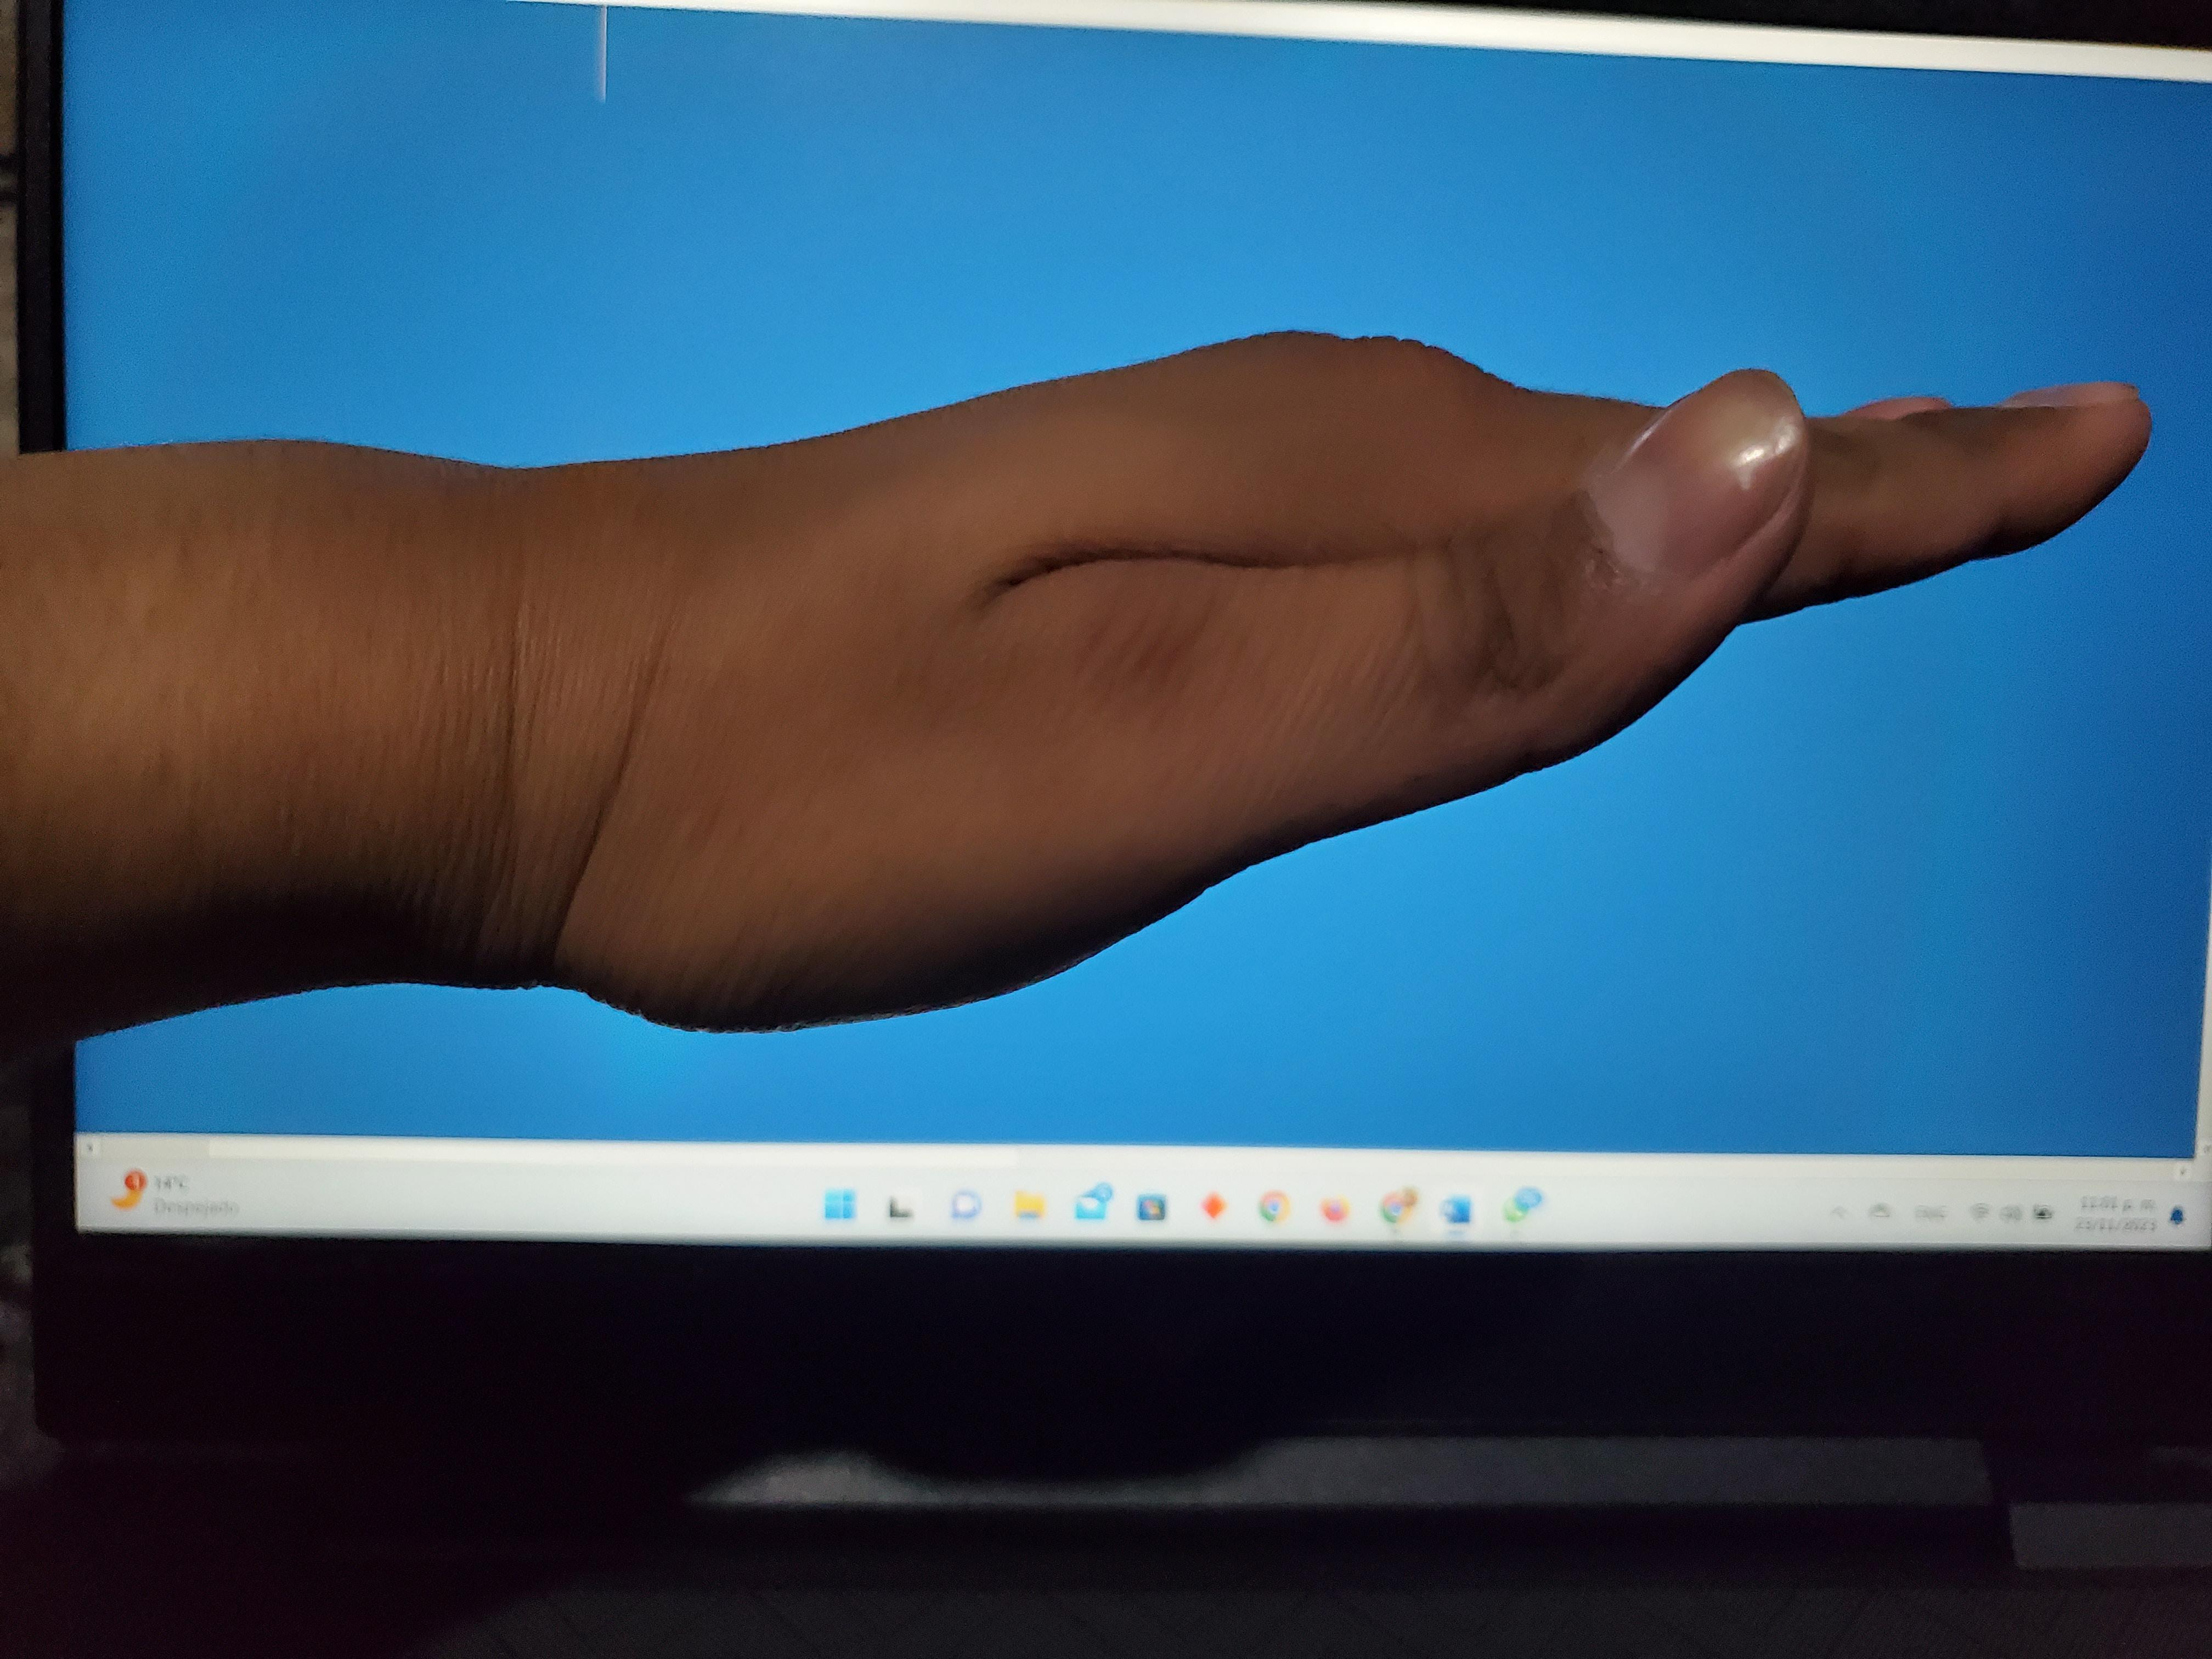Paper: (0, 35, 2212, 1171)
